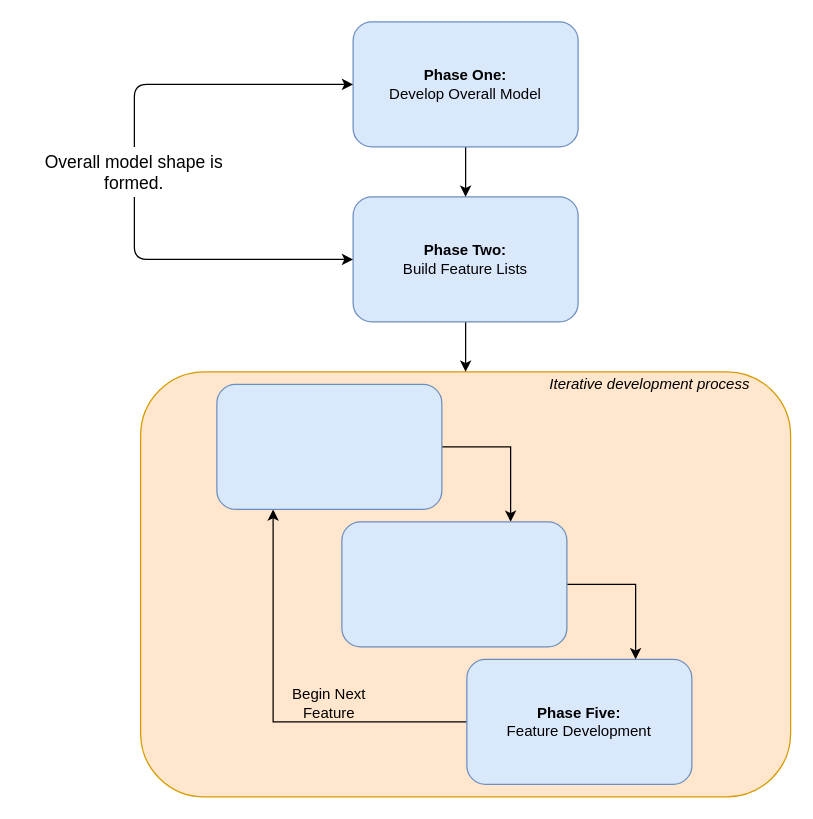
Image size: 813x819. Some labels were removed from this diagram. Here are the shapes that lost their labels. From the top down, the centre of each, then its label:
At point (329, 446): "Phase Three: Feature Planning".
At point (454, 584): "Phase Four: Feature Design".
